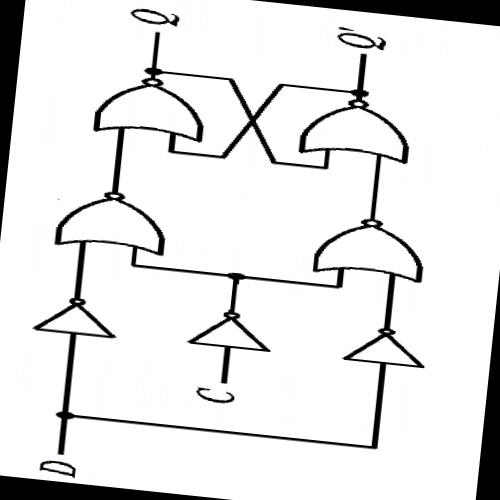nor: (46, 180, 176, 258), (303, 208, 433, 286), (84, 68, 214, 145), (291, 90, 420, 165)
not: (22, 288, 128, 342), (334, 319, 435, 371), (181, 304, 277, 355)
